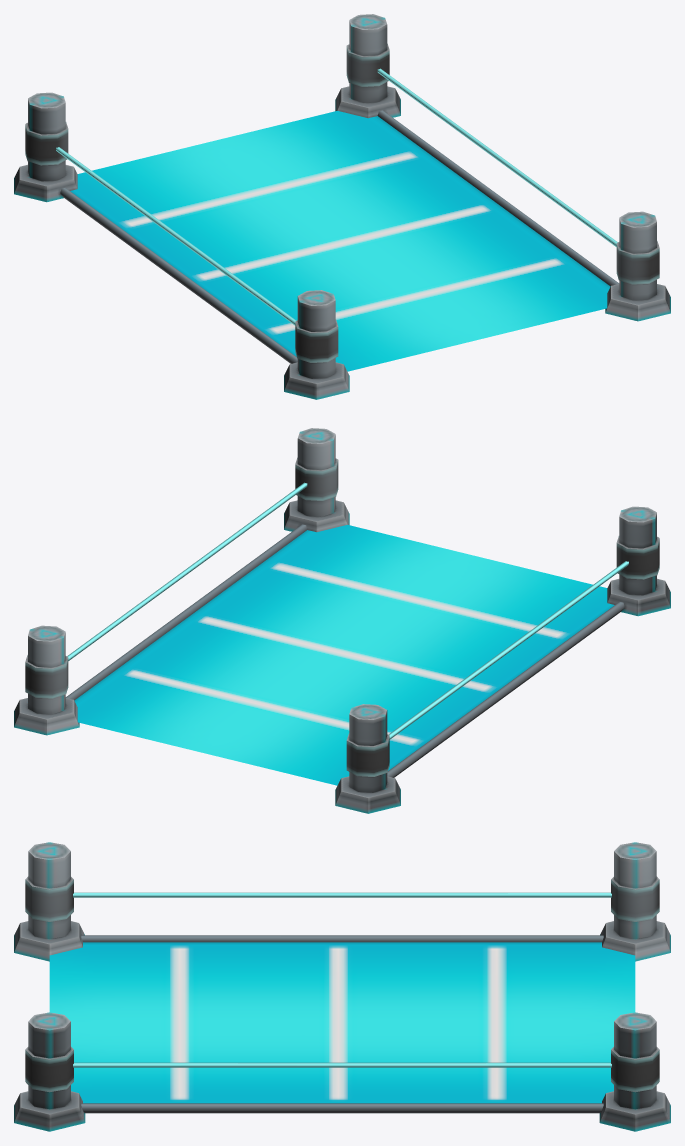
The model's file is Bridge.fbx.
The picture shows the model from 3 angles, top to bottom: view 1: azimuth 30°, elevation 25°; view 2: azimuth 150°, elevation 25°; view 3: azimuth 270°, elevation 25°; orthographic projection. The views are drawn at different scales.
Visible parts, largest first — view 1: Bridge; view 2: Bridge; view 3: Bridge.
Part boxes in pixels (x1,y1,x2,y2): Bridge: (14, 14, 670, 399); Bridge: (14, 428, 670, 813); Bridge: (14, 842, 670, 1131).
Bounding box in the file's own units: 11.82 × 2.5 × 16.01.
Materials: 1 (1 with a texture image).
